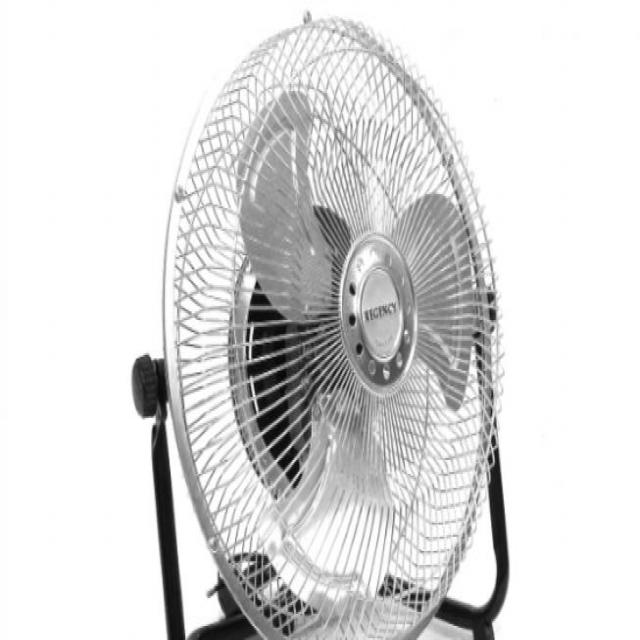fan: (123, 11, 520, 631)
